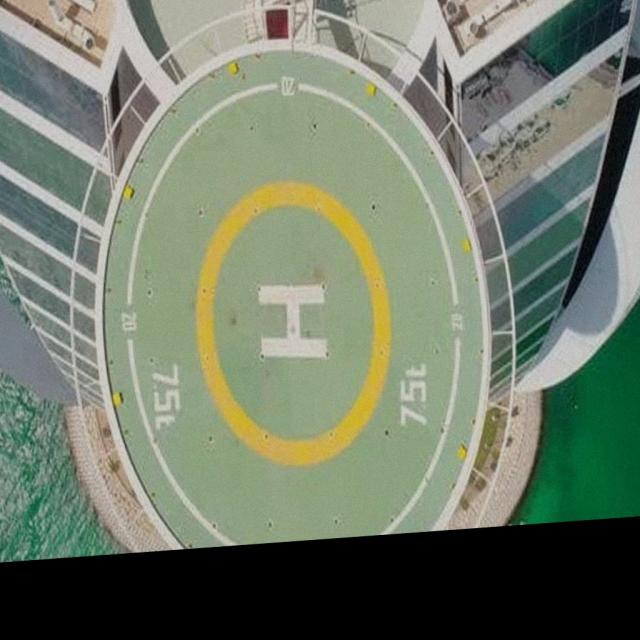helipad: (189, 176, 397, 472)
